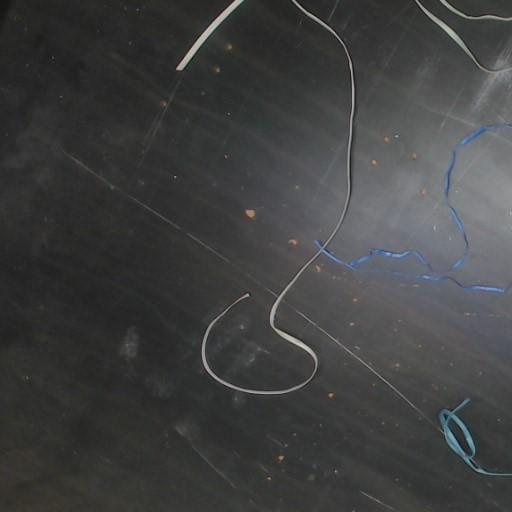conveyor belt: (0, 0, 511, 511), (420, 0, 511, 66), (450, 0, 511, 15)
thread: (201, 0, 511, 395), (414, 0, 511, 73), (439, 398, 511, 476), (446, 123, 511, 197), (177, 0, 245, 70), (440, 0, 511, 21), (448, 202, 468, 271)
